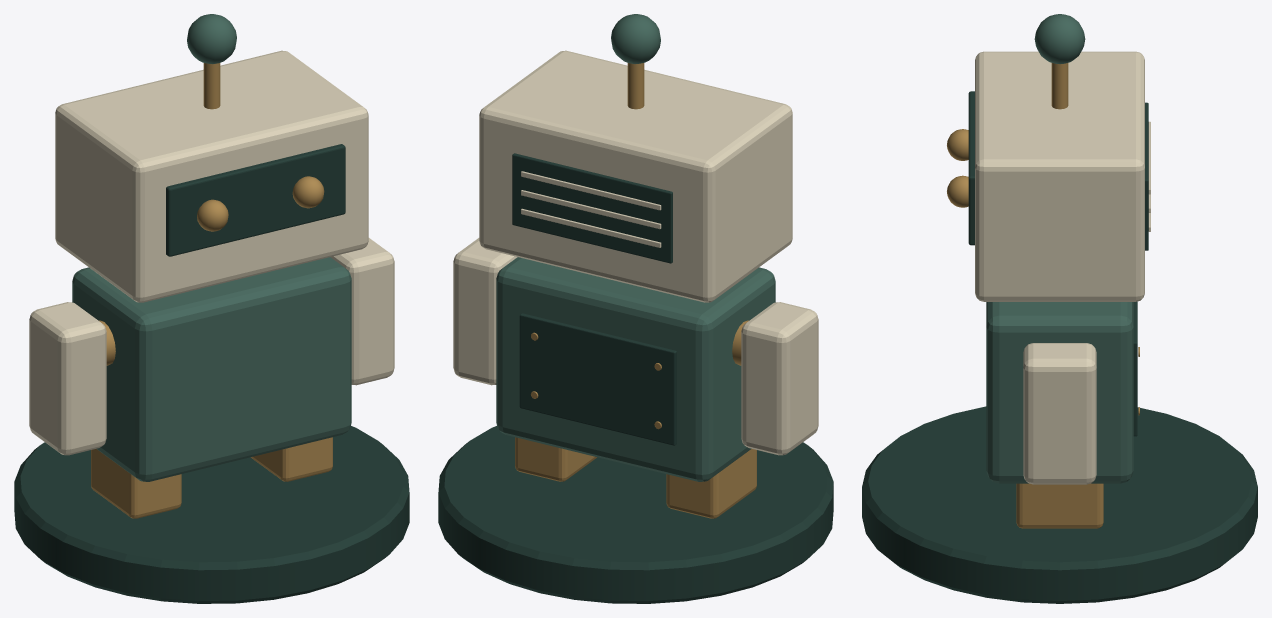
Rendered from robot.glb.
The picture shows the model from 3 angles, left to right: view 1: azimuth 30°, elevation 25°; view 2: azimuth 150°, elevation 25°; view 3: azimuth 270°, elevation 25°; orthographic projection.
Parts seen in each view (by area): view 1: robot / Ivory powder coat, robot / Graphite rubber and inset, robot / Sage enamel, robot / Satin brass; view 2: robot / Graphite rubber and inset, robot / Ivory powder coat, robot / Sage enamel, robot / Satin brass; view 3: robot / Graphite rubber and inset, robot / Ivory powder coat, robot / Sage enamel, robot / Satin brass.
Part boxes in pixels (box(x1,y1,x2,y2)): robot / Ivory powder coat: box(29, 50, 394, 455); robot / Graphite rubber and inset: box(14, 144, 409, 603); robot / Sage enamel: box(72, 14, 351, 481); robot / Satin brass: box(91, 63, 332, 518); robot / Graphite rubber and inset: box(438, 153, 833, 603); robot / Ivory powder coat: box(453, 50, 818, 455); robot / Sage enamel: box(496, 14, 775, 481); robot / Satin brass: box(515, 63, 756, 518); robot / Graphite rubber and inset: box(862, 91, 1257, 603); robot / Ivory powder coat: box(975, 51, 1150, 484); robot / Sage enamel: box(986, 14, 1133, 483); robot / Satin brass: box(947, 63, 1139, 528).
Bounding box in the file's own units: 0.86 × 1.22 × 0.86.
